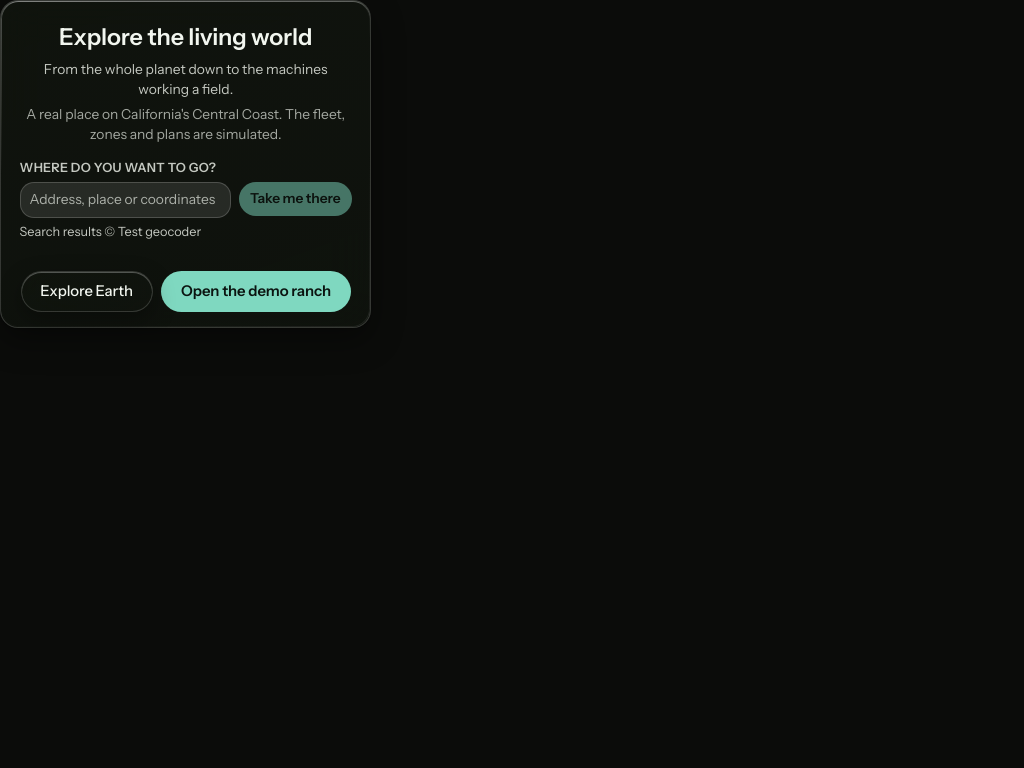
it: the place field on the welcome card › says when nothing was found, in place
Type "Nowhere at all" into the field with test id "descent-input".
click(125, 200); type("Nowhere at all")  # box [20,182,231,218]
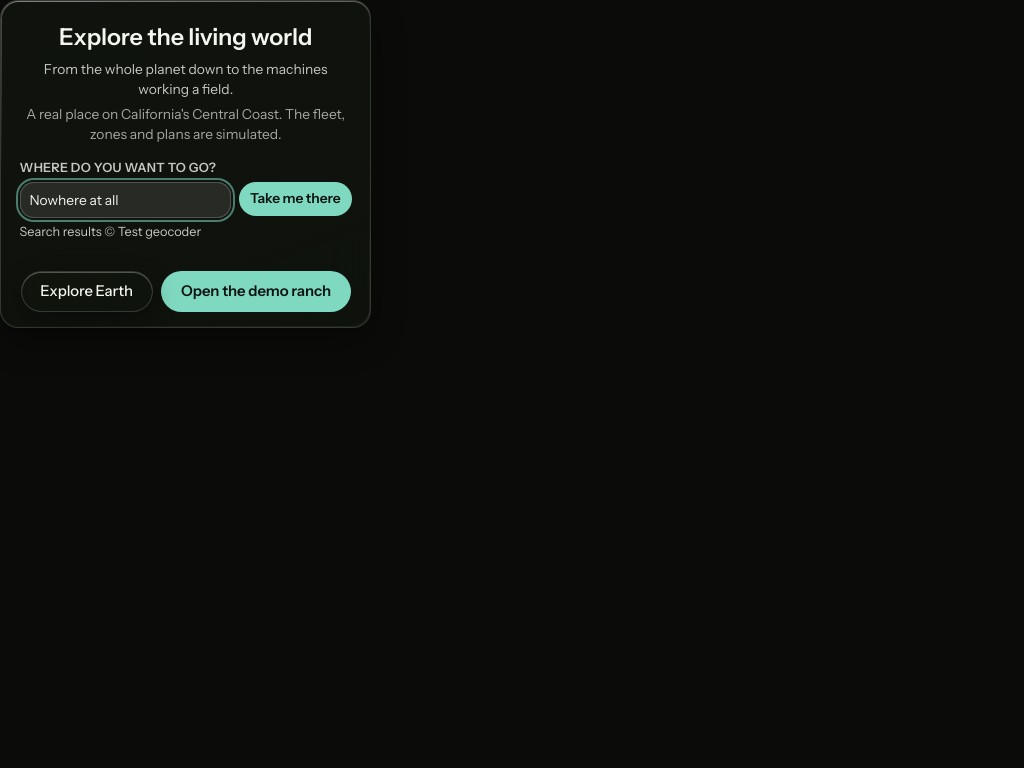
Click the button with test id "descent-submit".
click(295, 199)  # box [238,182,352,216]
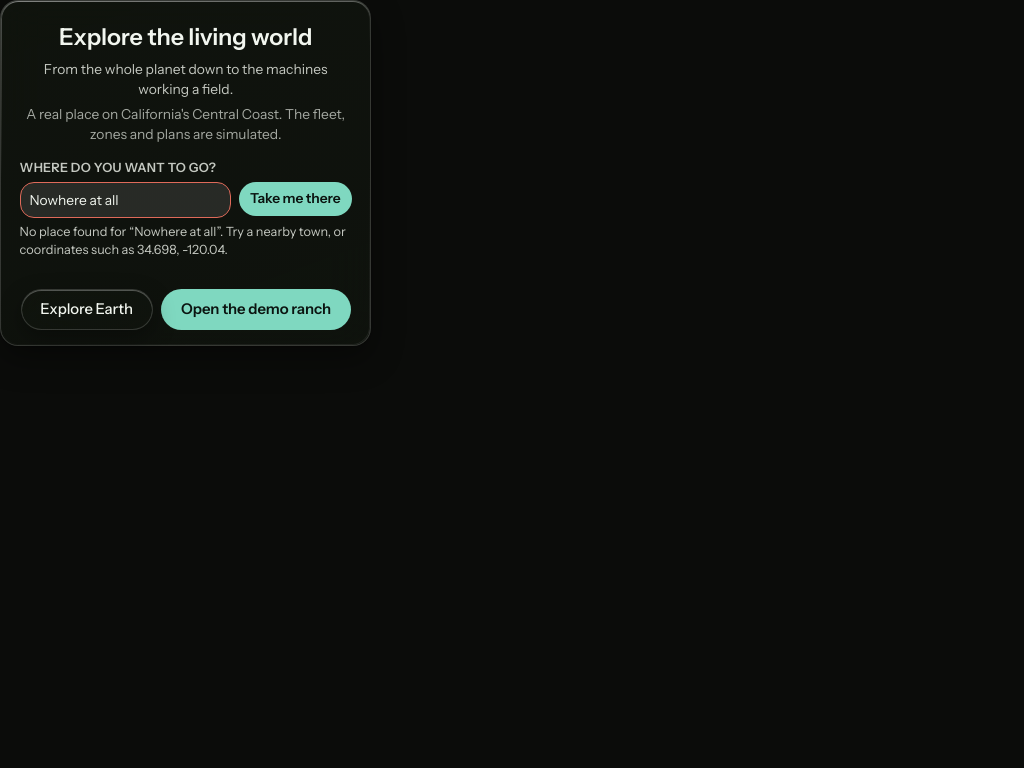
Result: the message shows "No place found for “Nowhere at all”" at [20,224,346,257]
